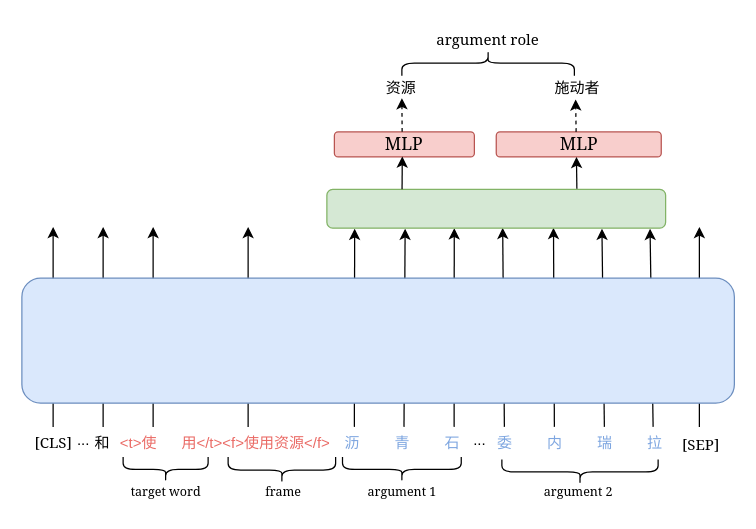
The diagram is 756 pixels wide and 529 high, and some of its shapes have lost their labels. The shapes that lost their labels are listed below. From the top down, each one's box as (x1, y1, x2, y2) in pixels, then its label:
(326, 188, 666, 228): MaxPooling Span Extractor
(21, 277, 734, 403): ERNIE
